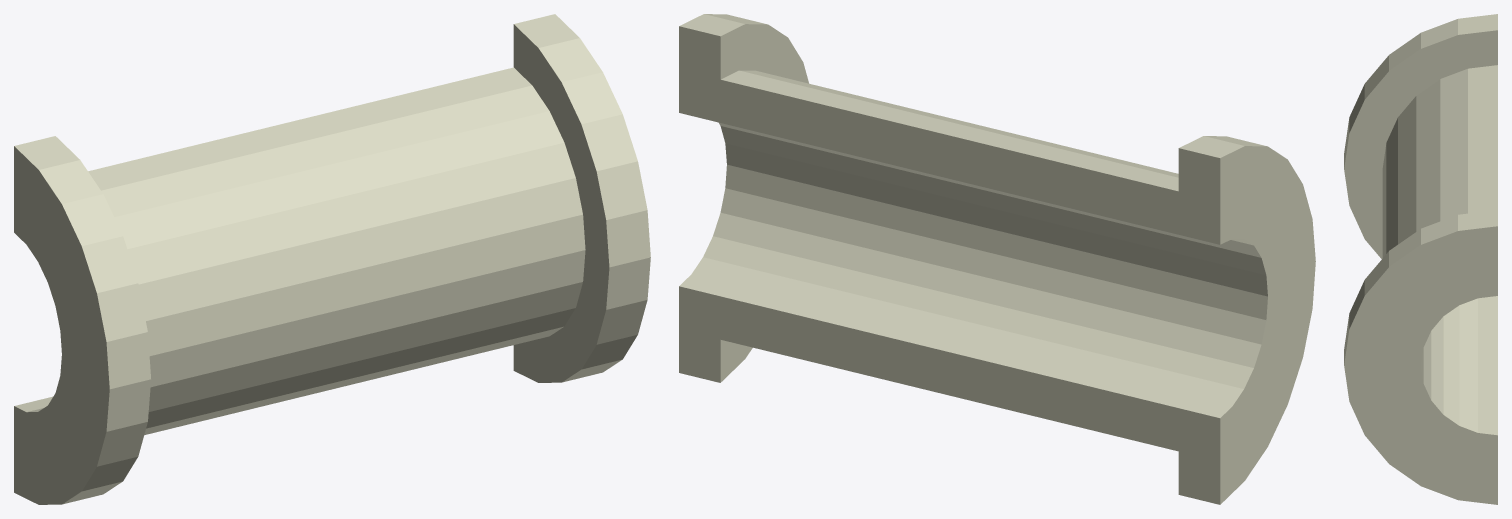
Rendered from section_017.obj.
The picture shows the model from 3 angles, left to right: view 1: azimuth 30°, elevation 25°; view 2: azimuth 150°, elevation 25°; view 3: azimuth 270°, elevation 25°; orthographic projection. The views are drawn at different scales.
Size of the model in its own units: 13.06 by 8 by 4.
